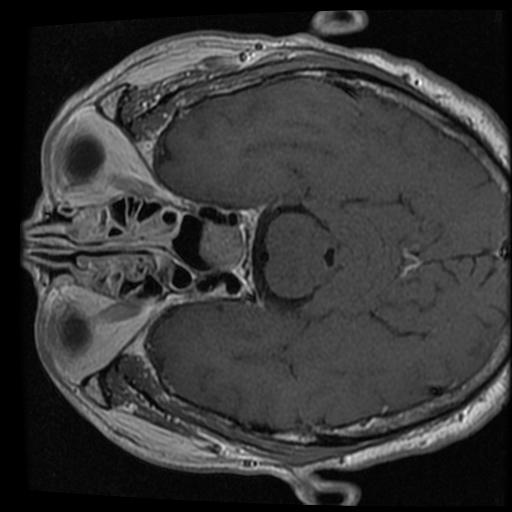pituitary tumour: (201, 222, 244, 271)
